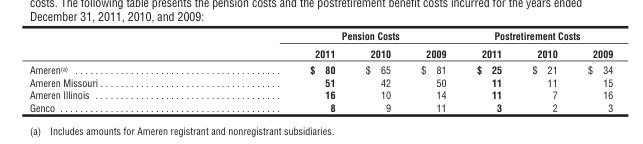table: (28, 28, 612, 113)
table column: (28, 28, 203, 113), (203, 28, 349, 113), (349, 28, 405, 113), (460, 28, 516, 113), (405, 28, 460, 113), (516, 28, 571, 113), (571, 28, 612, 113)
table column header: (28, 28, 612, 60)
table row: (28, 43, 612, 60), (28, 28, 612, 43), (28, 60, 612, 75), (28, 75, 612, 88), (28, 100, 612, 113), (28, 88, 612, 100)
table spanning cell: (203, 28, 460, 43), (460, 28, 612, 43)
